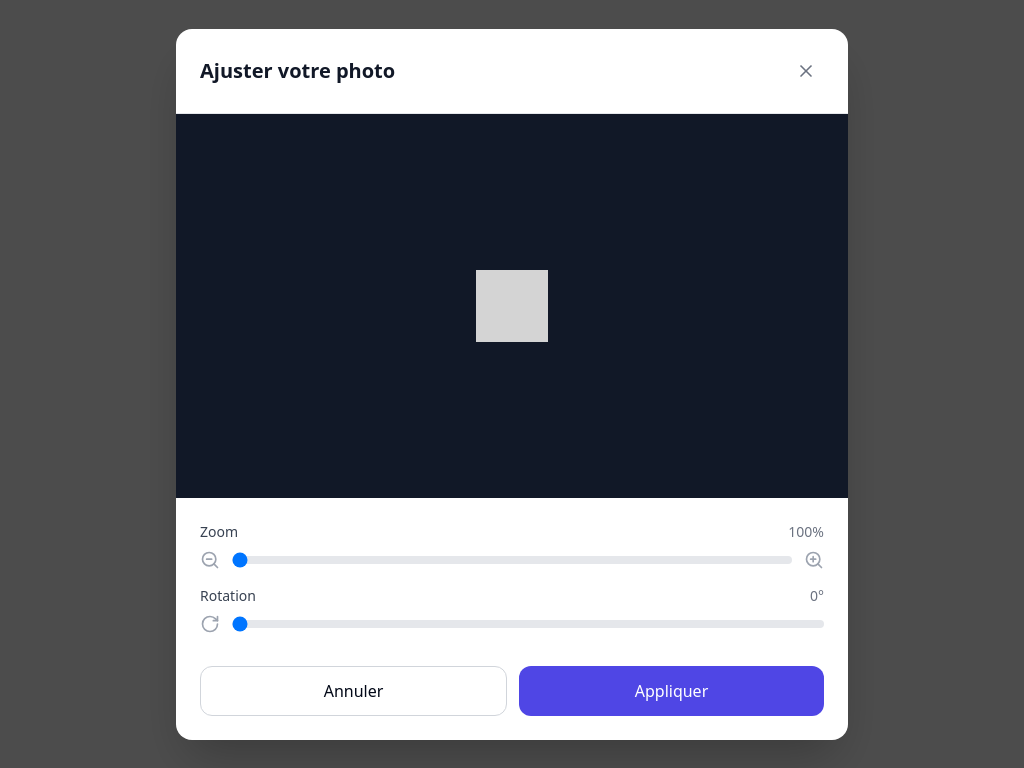
Scenario: ImageCropModal › updates zoom value when slider changes
The image size is (1024, 768).
Set the slider below "Zoom" to "2" at (512, 560), box [232,556,792,564]
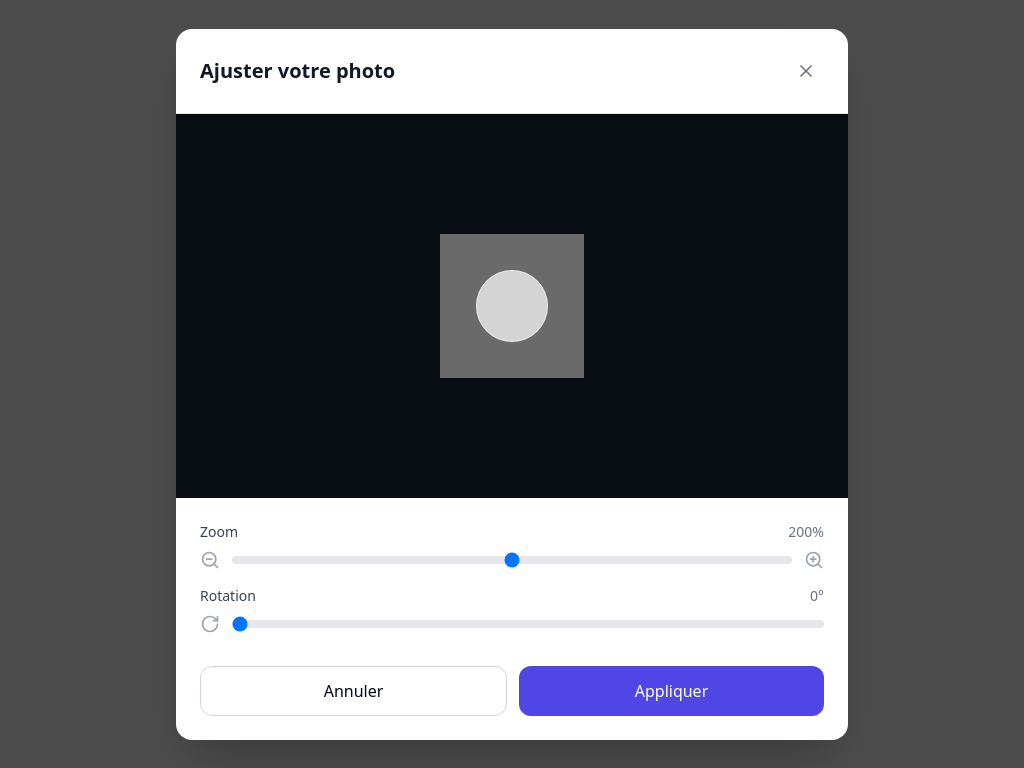
Expected: the text "200%" is shown, [788,522,824,542]
